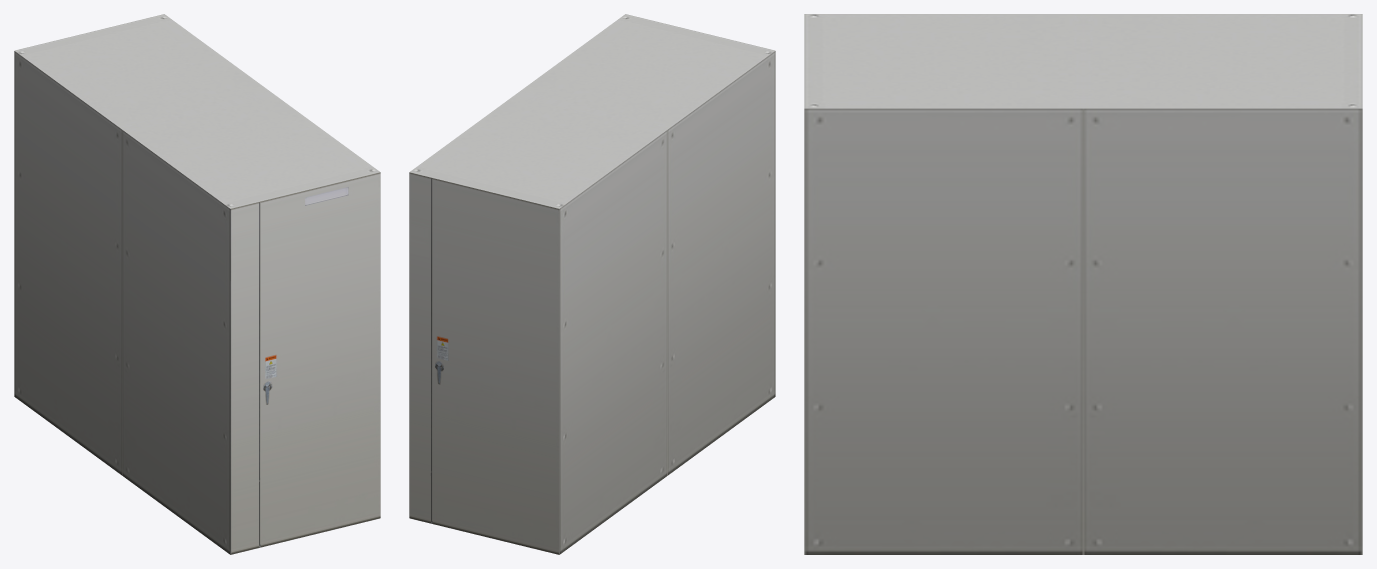
The model's file is Blank_Panel_04.gltf.
3 renders of one model, left to right at view 1: azimuth 30°, elevation 25°; view 2: azimuth 150°, elevation 25°; view 3: azimuth 270°, elevation 25°, orthographic. The views are drawn at different scales.
Visible parts, largest first — view 1: SHV-3-1; view 2: SHV-3-1; view 3: SHV-3-1.
Part boxes in pixels (x1=…): SHV-3-1: x1=14, y1=14, x2=380, y2=554; SHV-3-1: x1=409, y1=14, x2=775, y2=554; SHV-3-1: x1=804, y1=14, x2=1362, y2=554.
Bounding box in the file's own units: 1.2 × 2.65 × 3.
Materials: 1 (1 with a texture image).
